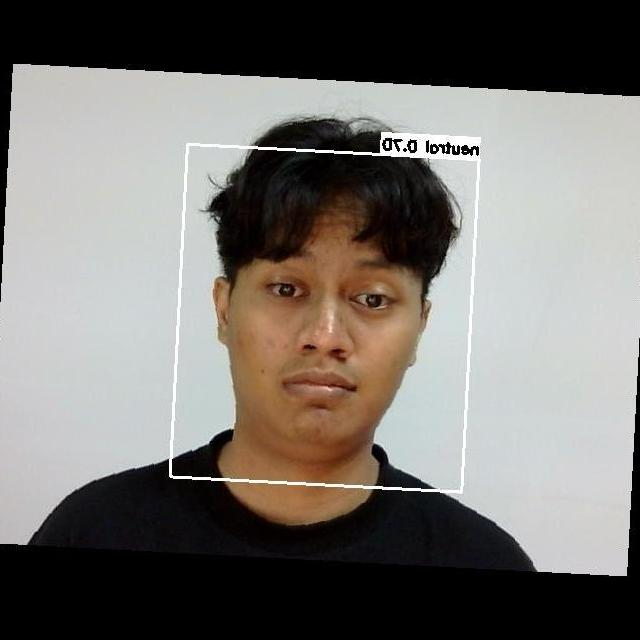Fear: (220, 233, 424, 435)
